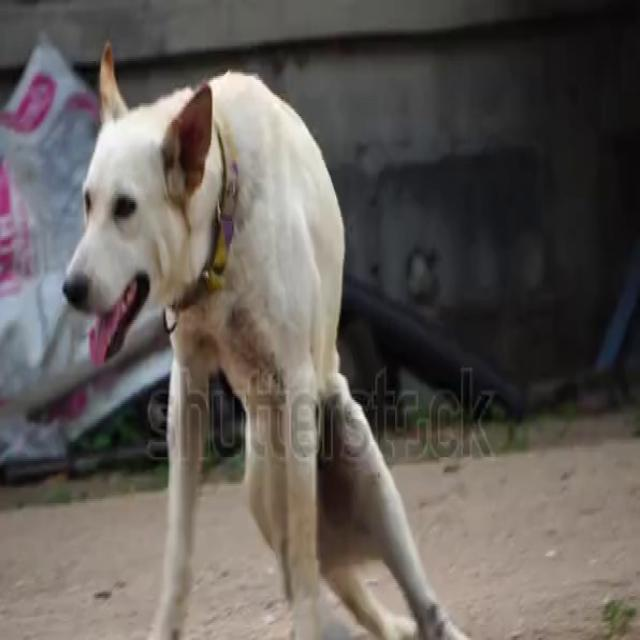injured-animals: (57, 36, 494, 638)
